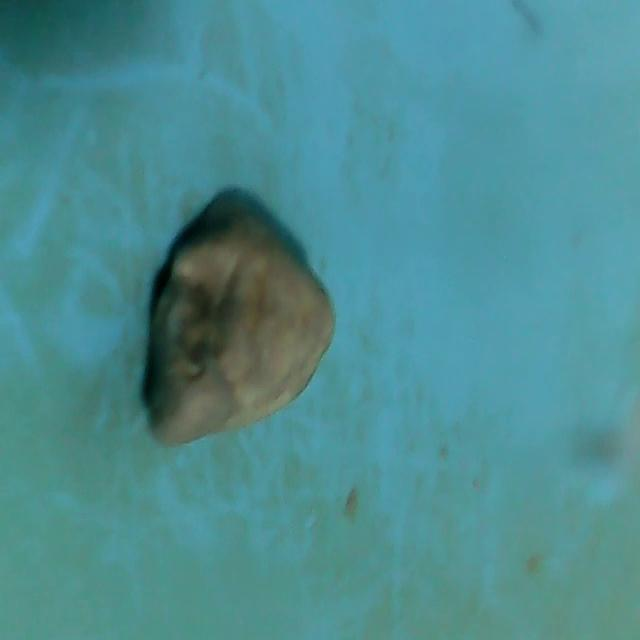rock: (138, 209, 342, 455)
